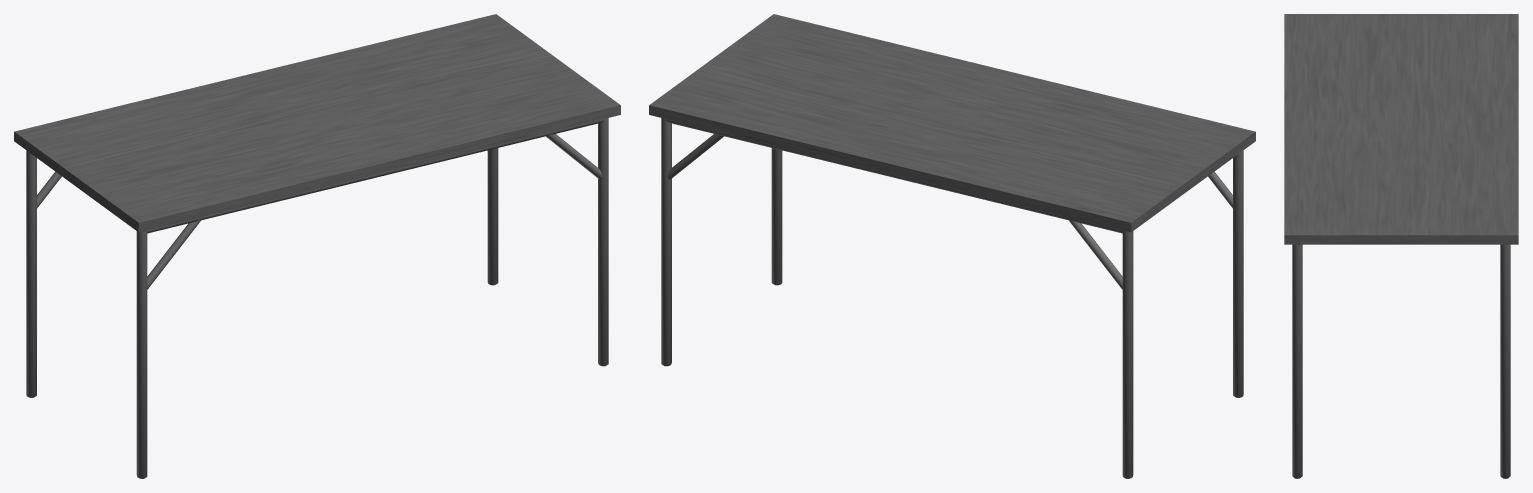
Rendered from table - Texture.gltf.
The picture shows the model from 3 angles, left to right: view 1: azimuth 30°, elevation 25°; view 2: azimuth 150°, elevation 25°; view 3: azimuth 270°, elevation 25°; orthographic projection. The views are drawn at different scales.
Visible parts, largest first — view 1: Cylinder; view 2: Cylinder; view 3: Cylinder.
Boxes of the visible parts, x1,y1,x2,y2 form: Cylinder: (14, 14, 620, 478); Cylinder: (649, 14, 1255, 478); Cylinder: (1284, 14, 1518, 478).
Bounding box in the file's own units: 38 × 19.75 × 17.01.
1 material, 1 textured.
